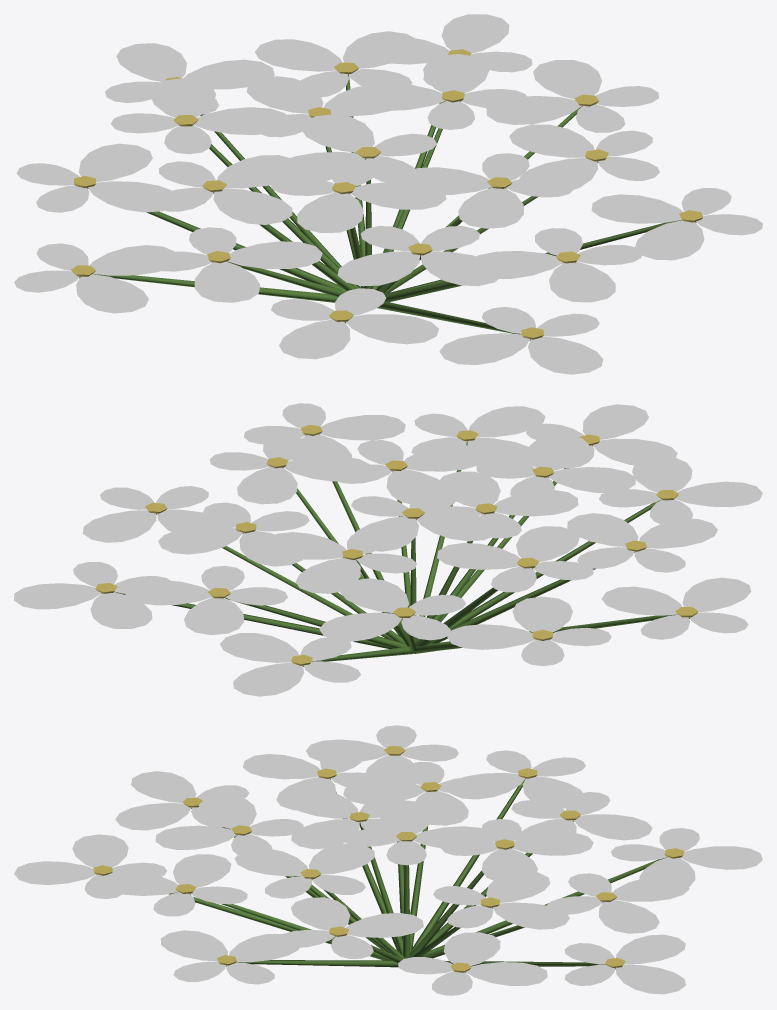
The model's file is flower-iberis.glb.
3 renders of one model, top to bottom at view 1: azimuth 30°, elevation 25°; view 2: azimuth 150°, elevation 25°; view 3: azimuth 270°, elevation 25°, orthographic. The views are drawn at different scales.
Parts seen in each view (by area): view 1: tint-surface, surface (×8); view 2: tint-surface, surface (×8); view 3: tint-surface, surface (×9).
Part boxes in pixels (x1,y1,x2,y2): tint-surface: [14, 14, 762, 374]; surface (×8): [93, 114, 681, 334]; tint-surface: [14, 403, 762, 696]; surface (×8): [114, 499, 677, 661]; tint-surface: [14, 725, 762, 995]; surface (×9): [168, 779, 666, 967].
Size of the model in its own units: 0.9984 by 0.2195 by 1.13.
